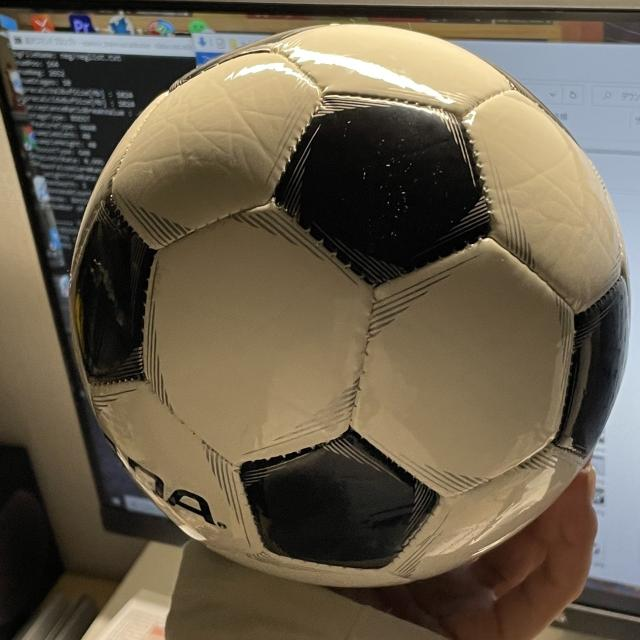ball: (64, 21, 629, 593)
